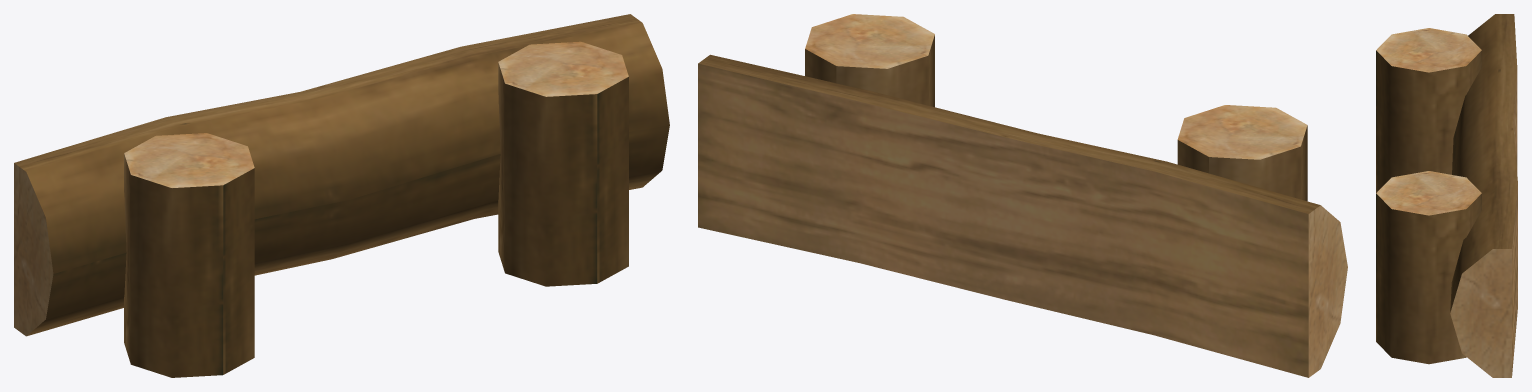
Rendered from Bench_A.fbx.
3 views of the same model, side by side, from view 1: azimuth 30°, elevation 25°; view 2: azimuth 150°, elevation 25°; view 3: azimuth 270°, elevation 25° (orthographic). The views are drawn at different scales.
Visible parts, largest first — view 1: Bench_A; view 2: Bench_A; view 3: Bench_A.
Boxes of the visible parts, <box> form: Bench_A: <box>14,14,669,377</box>; Bench_A: <box>698,14,1347,377</box>; Bench_A: <box>1376,14,1517,377</box>.
Bounding box in the file's own units: 48.51 × 14.31 × 12.37.
